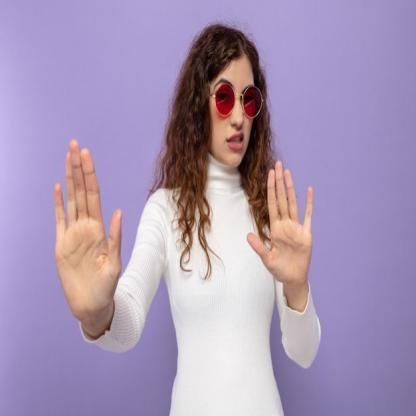stop: (53, 136, 124, 326), (244, 155, 316, 292)
